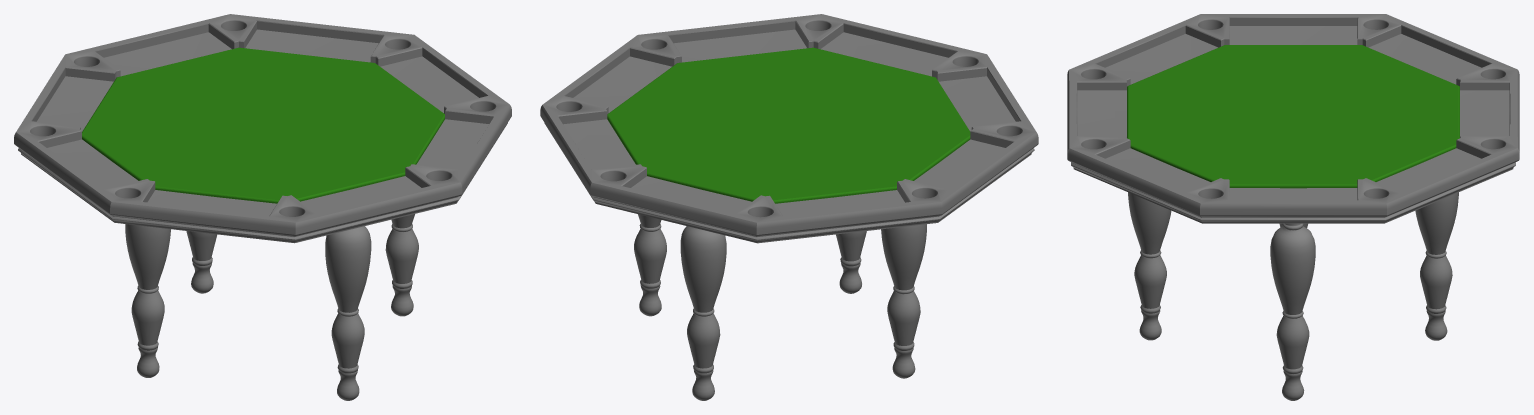
The model's file is Poker_Table.FBX.
3 views of the same model, side by side, from view 1: azimuth 30°, elevation 25°; view 2: azimuth 150°, elevation 25°; view 3: azimuth 270°, elevation 25° (orthographic). The views are drawn at different scales.
Parts seen in each view (by area): view 1: table, felt, LEG001, LEG002, LEG, LEG003; view 2: table, felt, LEG003, LEG002, LEG, LEG001; view 3: table, felt, LEG, LEG003, LEG001.
Boxes of the visible parts, left/top/right/bottom form: table: left=14, top=14, right=511, bottom=243; felt: left=82, top=47, right=444, bottom=203; LEG001: left=325, top=226, right=371, bottom=400; LEG002: left=125, top=224, right=170, bottom=377; LEG: left=385, top=214, right=418, bottom=316; LEG003: left=186, top=231, right=217, bottom=293; table: left=540, top=14, right=1038, bottom=243; felt: left=607, top=47, right=970, bottom=203; LEG003: left=680, top=226, right=726, bottom=400; LEG002: left=881, top=224, right=926, bottom=378; LEG: left=634, top=214, right=666, bottom=316; LEG001: left=836, top=231, right=866, bottom=293; table: left=1067, top=14, right=1519, bottom=223; felt: left=1127, top=45, right=1459, bottom=188; LEG: left=1270, top=223, right=1315, bottom=400; LEG003: left=1415, top=192, right=1458, bottom=340; LEG001: left=1128, top=192, right=1171, bottom=340.
Bounding box in the file's own units: 27.99 × 15.28 × 27.99.
